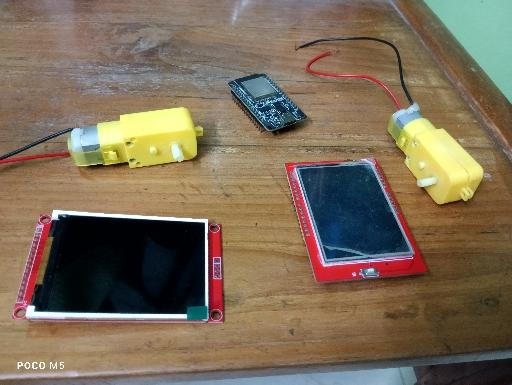Display: (13, 209, 224, 324), (284, 157, 428, 283)
Esp32: (228, 72, 307, 132)
Motor: (388, 103, 484, 205), (67, 107, 204, 169)
